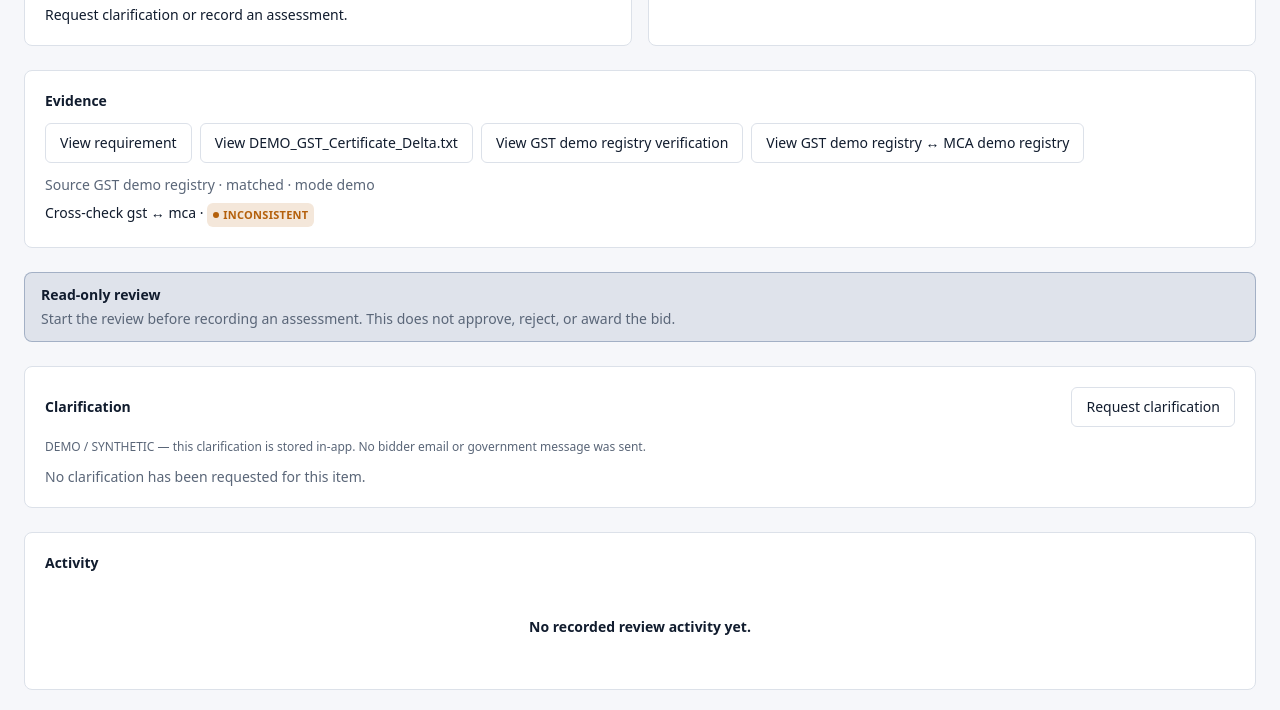
ReviewDetailPage › opens the clarification modal with a DEMO label
(page scrolled)
Click the button "Request clarification" at (1153, 406), box 1072,386 -> 1235,426
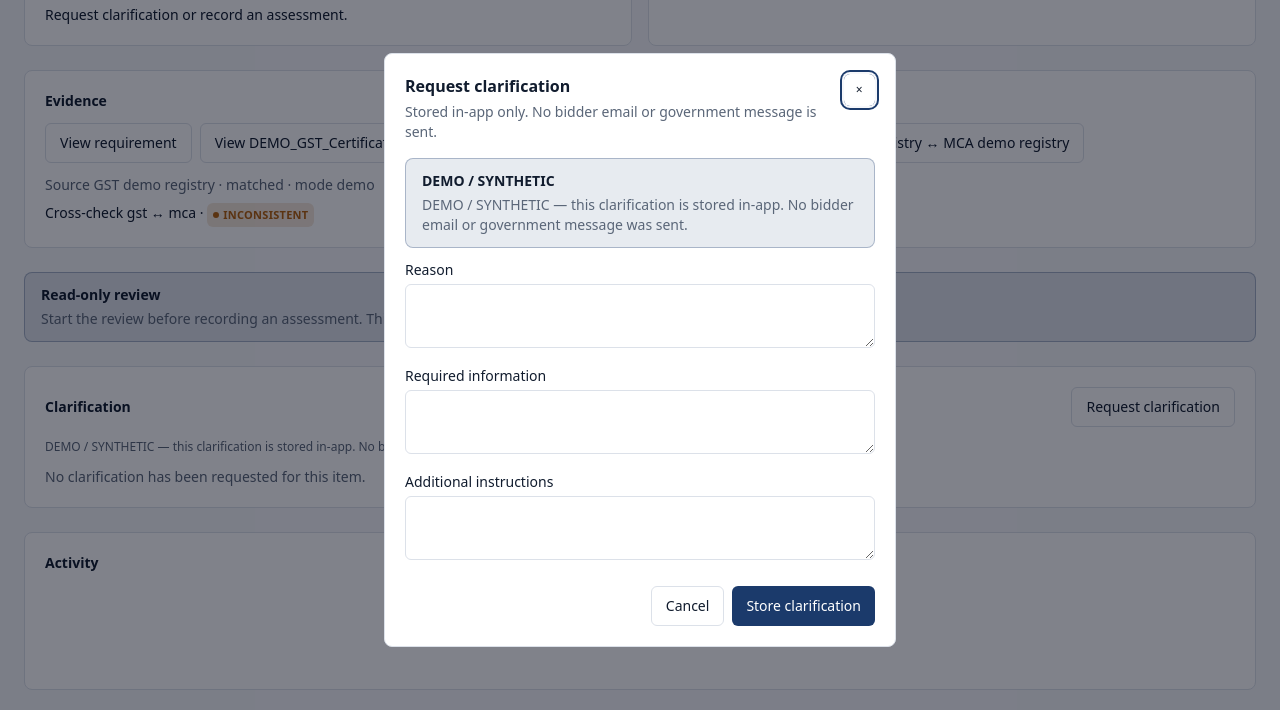
Expected: the text "No bidder email or government message" below "Read-only review" is shown, 45,438 -> 646,454
Now the heading "Request clarification" is shown, box 405,75 -> 570,97
Now the text box labelled "Reason" is shown, box 405,284 -> 875,348
